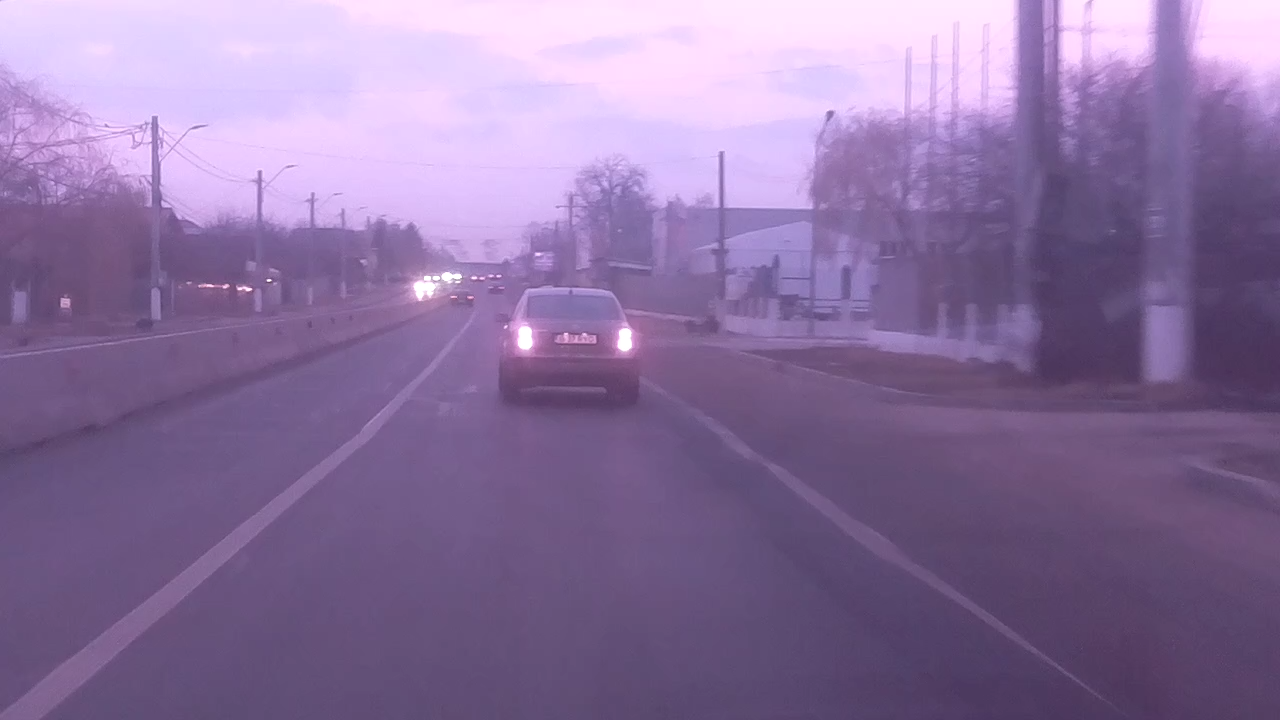license-plate: (552, 331, 600, 346)
